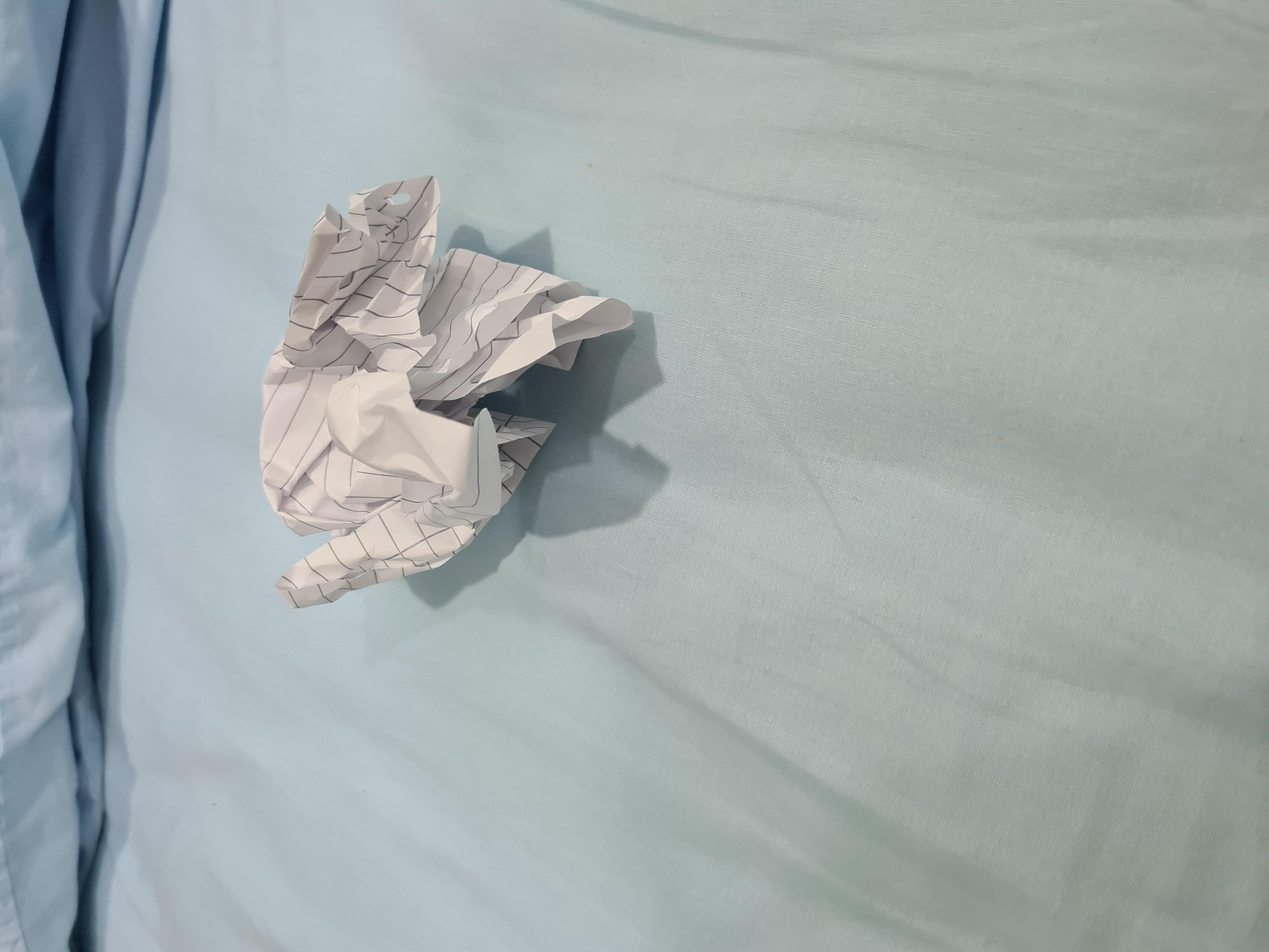paper: (437, 194, 1009, 473)
